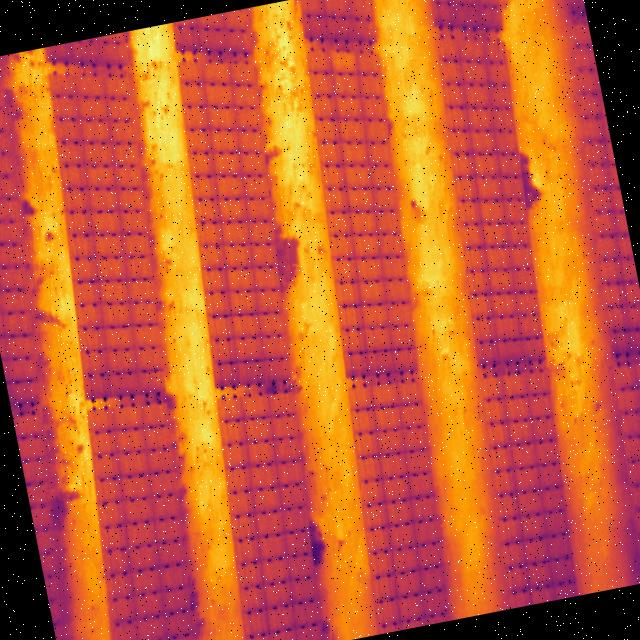Hotspot: (329, 45, 360, 78)
